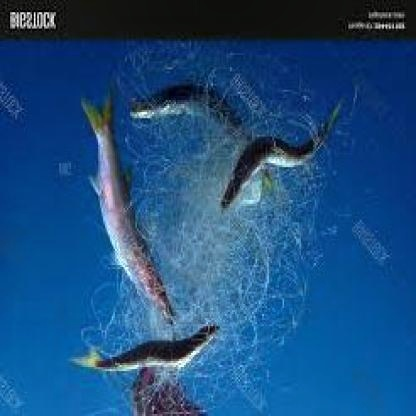net: (115, 59, 321, 400)
